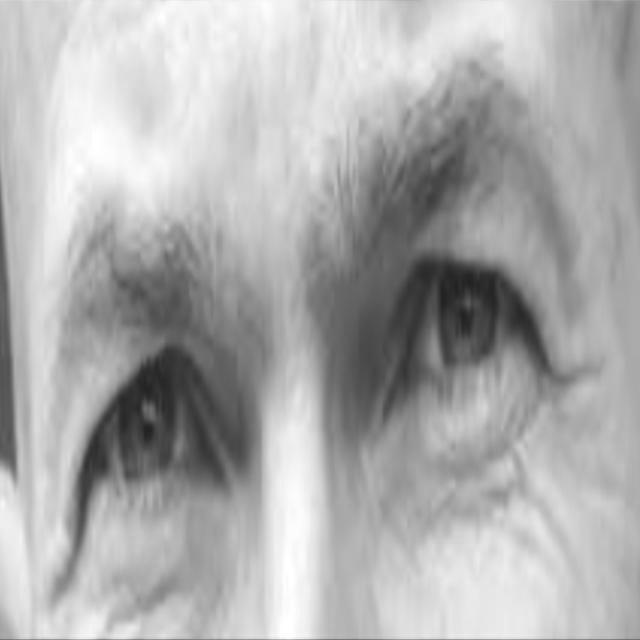real: (34, 41, 584, 618)
